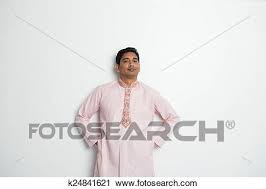Indian_Male: (114, 51, 144, 78)
